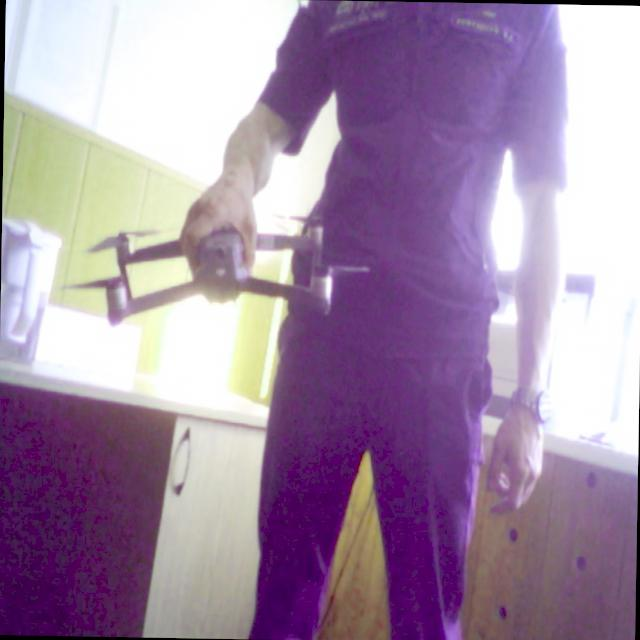drone: (64, 192, 379, 340)
